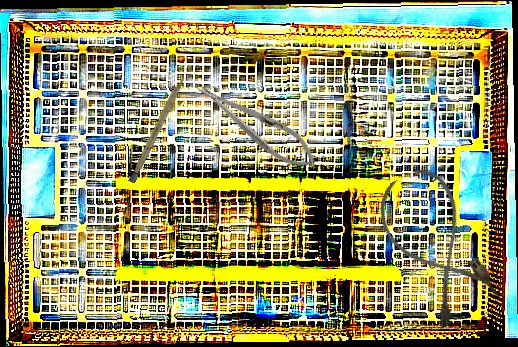Cannula: (366, 160, 505, 332)
Needle Holder: (190, 72, 325, 179)
Scalpel Handle: (128, 73, 187, 184)
